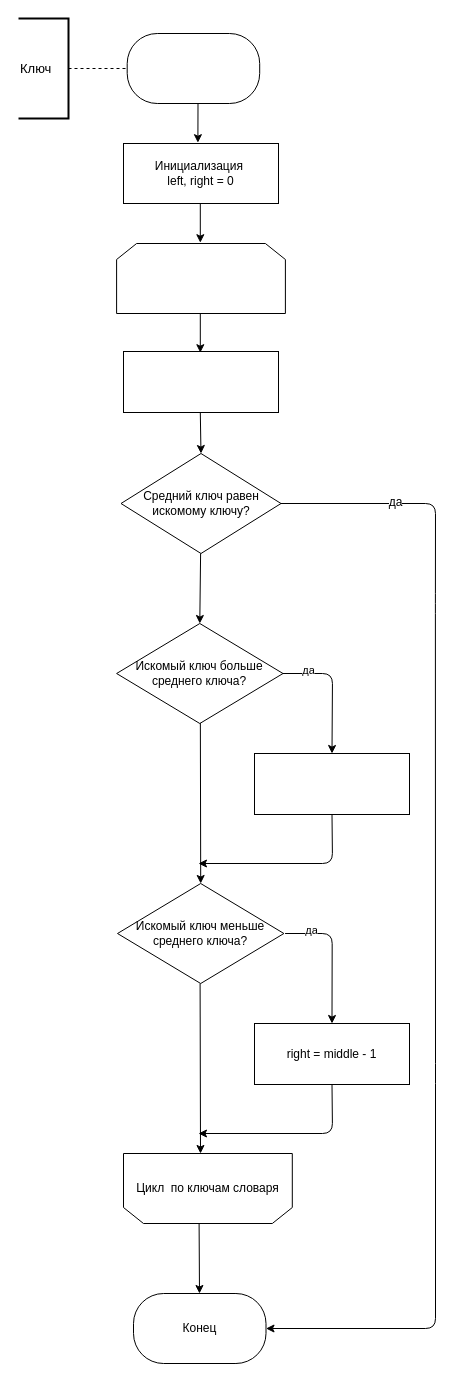
Some shapes in this 461 by 1381 pixel diagram are drawn without their labels. The shapes that lost their labels are listed below. From the top down, each one's centre as x and y in pixels, then its label:
point 193,68: Начало
point 200,278: Цикл пока left <= right
point 200,381: Инициализация middle = (left + right) // 2 x = средний ключ в словаре
point 332,783: left = middle + 1
